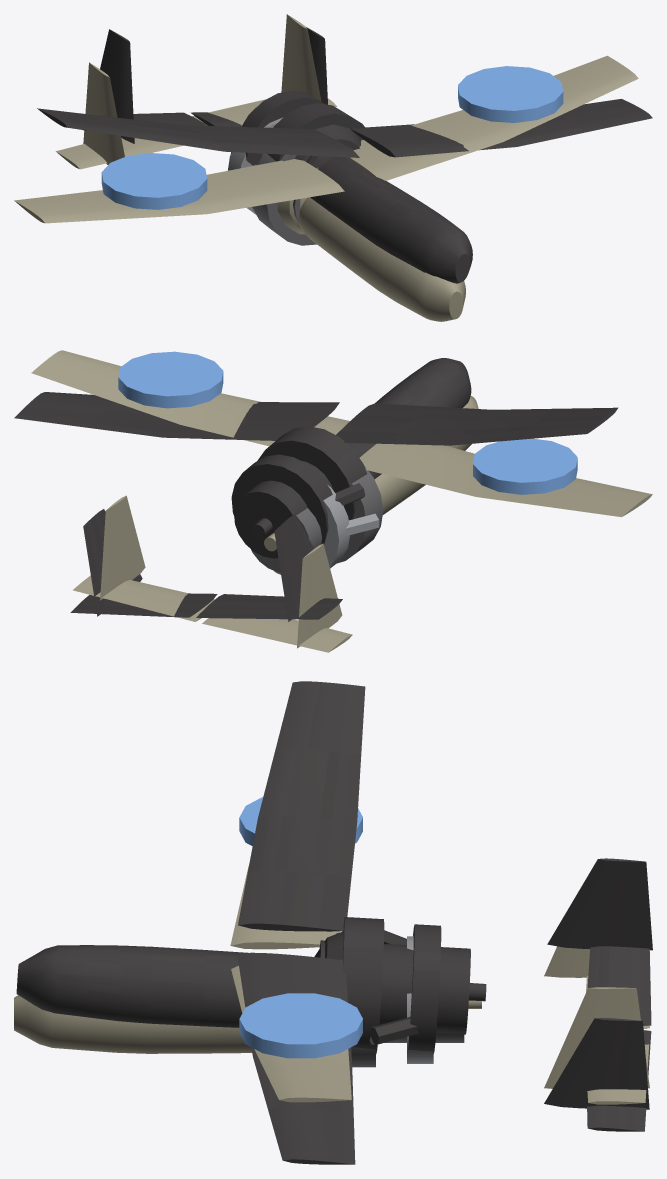
File: drone__remoeye_002b.glb
The picture shows the model from 3 angles, top to bottom: view 1: azimuth 30°, elevation 25°; view 2: azimuth 150°, elevation 25°; view 3: azimuth 270°, elevation 25°; orthographic projection. The views are drawn at different scales.
Parts seen in each view (by area): view 1: Fuselage_Mesh, Wreck, Propeller_Mesh; view 2: Wreck, Fuselage_Mesh, Propeller_Mesh; view 3: Wreck, Fuselage_Mesh, Propeller_Mesh.
Boxes of the visible parts, left/top/right/bottom form: Fuselage_Mesh: left=14, top=14, right=638, bottom=321; Wreck: left=37, top=27, right=652, bottom=283; Propeller_Mesh: left=228, top=117, right=318, bottom=245; Wreck: left=14, top=358, right=618, bottom=621; Fuselage_Mesh: left=31, top=350, right=652, bottom=652; Propeller_Mesh: left=251, top=465, right=383, bottom=574; Wreck: left=16, top=681, right=652, bottom=1164; Fuselage_Mesh: left=14, top=797, right=649, bottom=1104; Propeller_Mesh: left=336, top=933, right=481, bottom=1067.
Size of what is drawn, in the model's own units: 1.85 by 0.5715 by 1.45.
